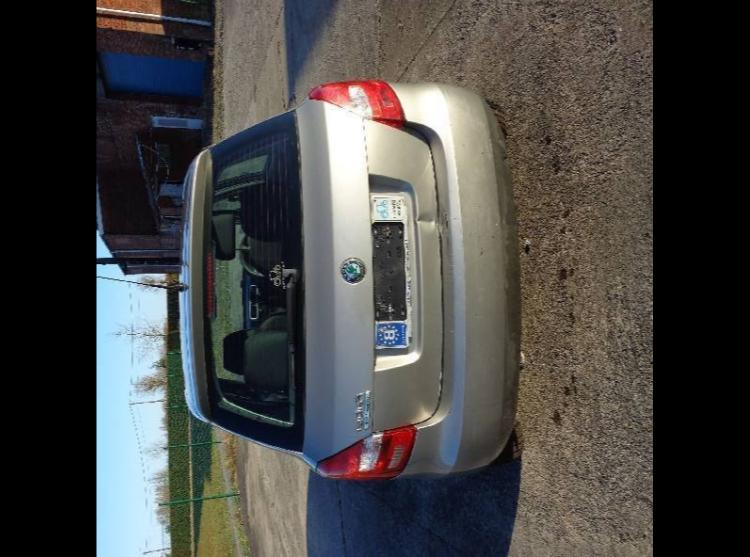Dent: (413, 210, 438, 232)
Missing part: (372, 219, 406, 320)
Paint chip: (438, 204, 452, 244), (480, 246, 486, 258)
Scratch: (448, 406, 453, 414), (492, 232, 498, 238), (482, 150, 484, 154)
